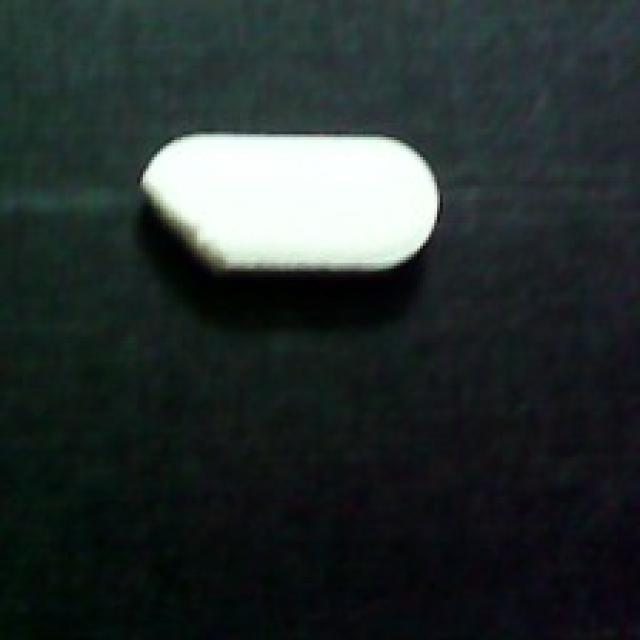defected: (134, 123, 457, 283)
